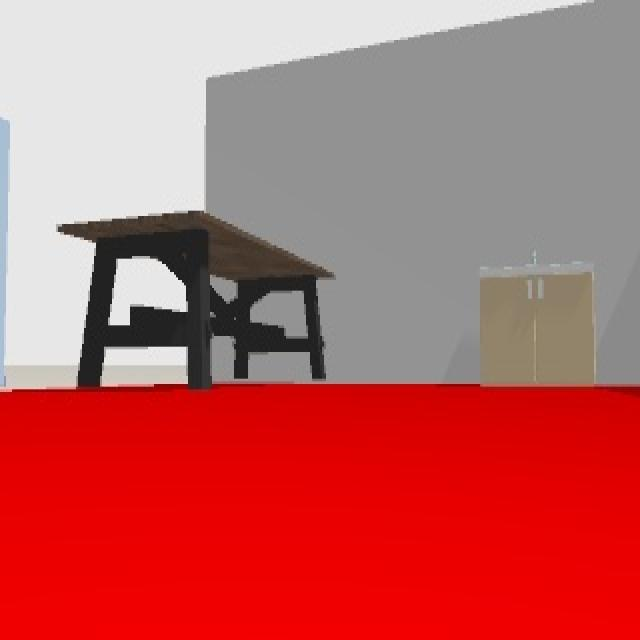dining: (61, 206, 336, 387)
